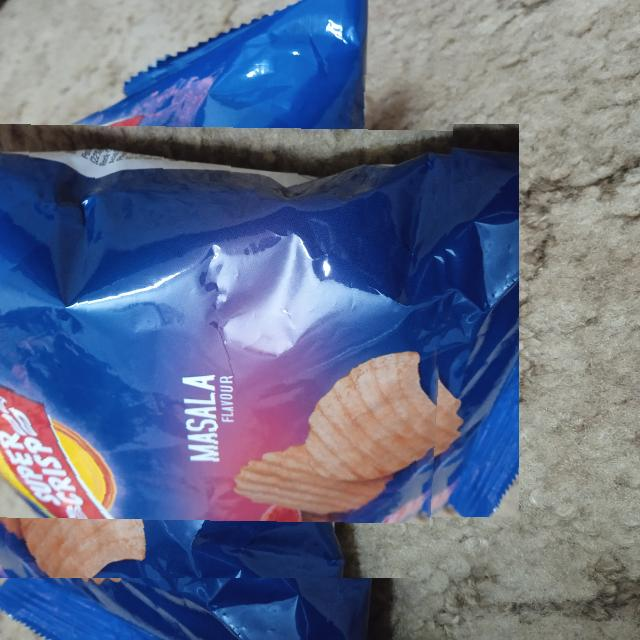Plastic: (0, 61, 457, 578)
